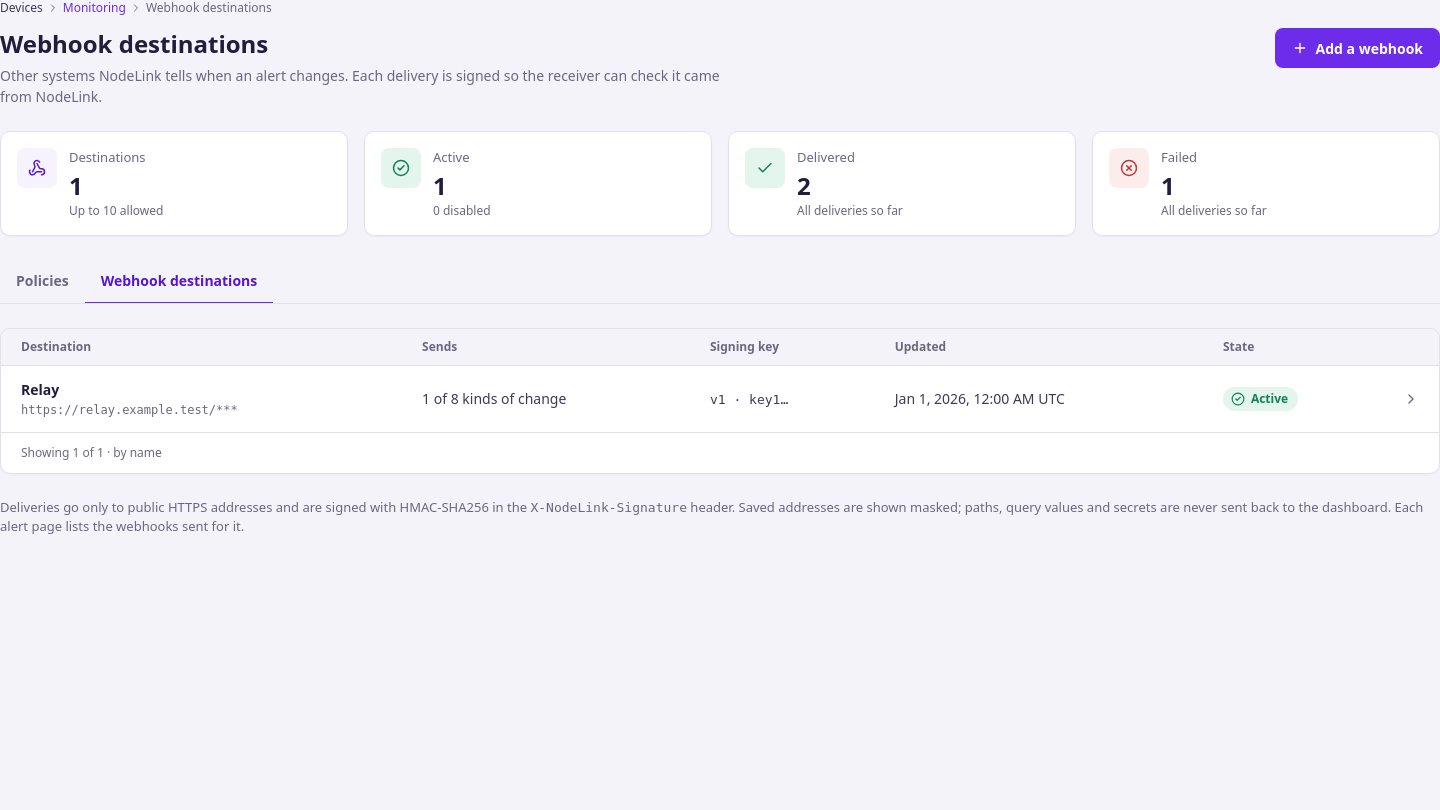
Test case: webhook rotation requires a reason and shows the replacement secret only until dismissed
Click the row named "Open Relay" at (720, 399), box x1=1 y1=365 x2=1439 y2=432
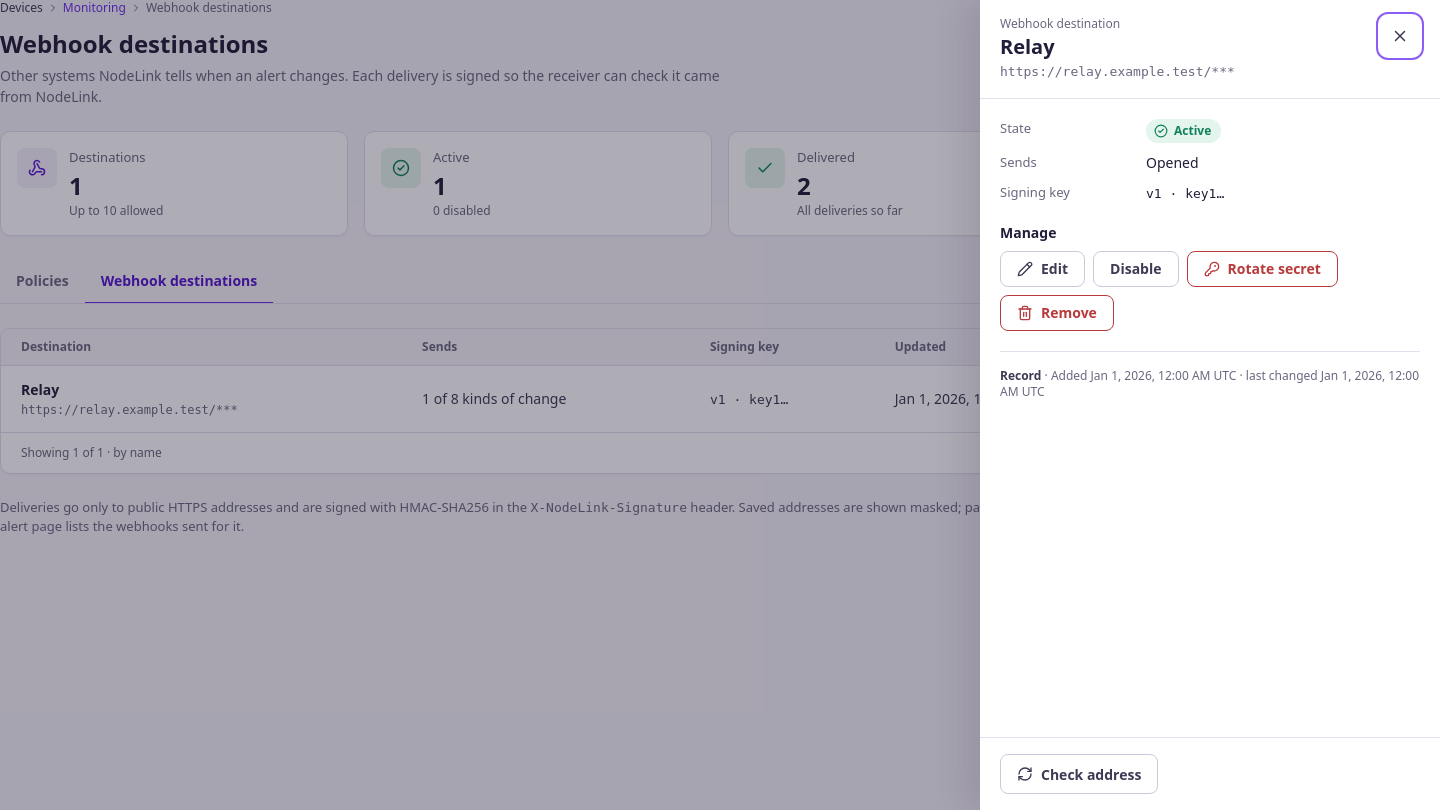
Click the button "Rotate secret" at (1262, 269), box x1=1186 y1=251 x2=1338 y2=287
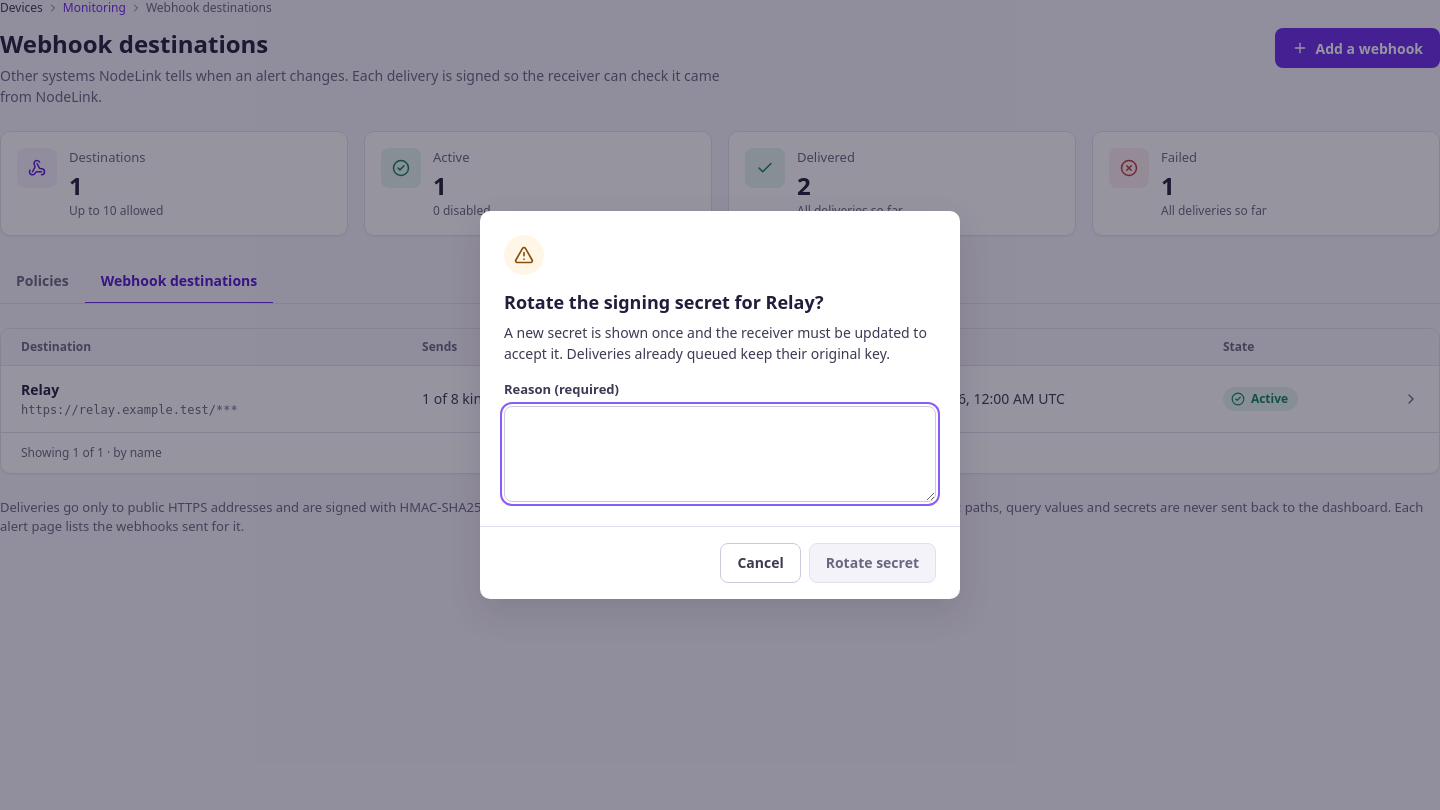
Type "Scheduled rotation" into the text box at (720, 454), box x1=504 y1=406 x2=936 y2=502
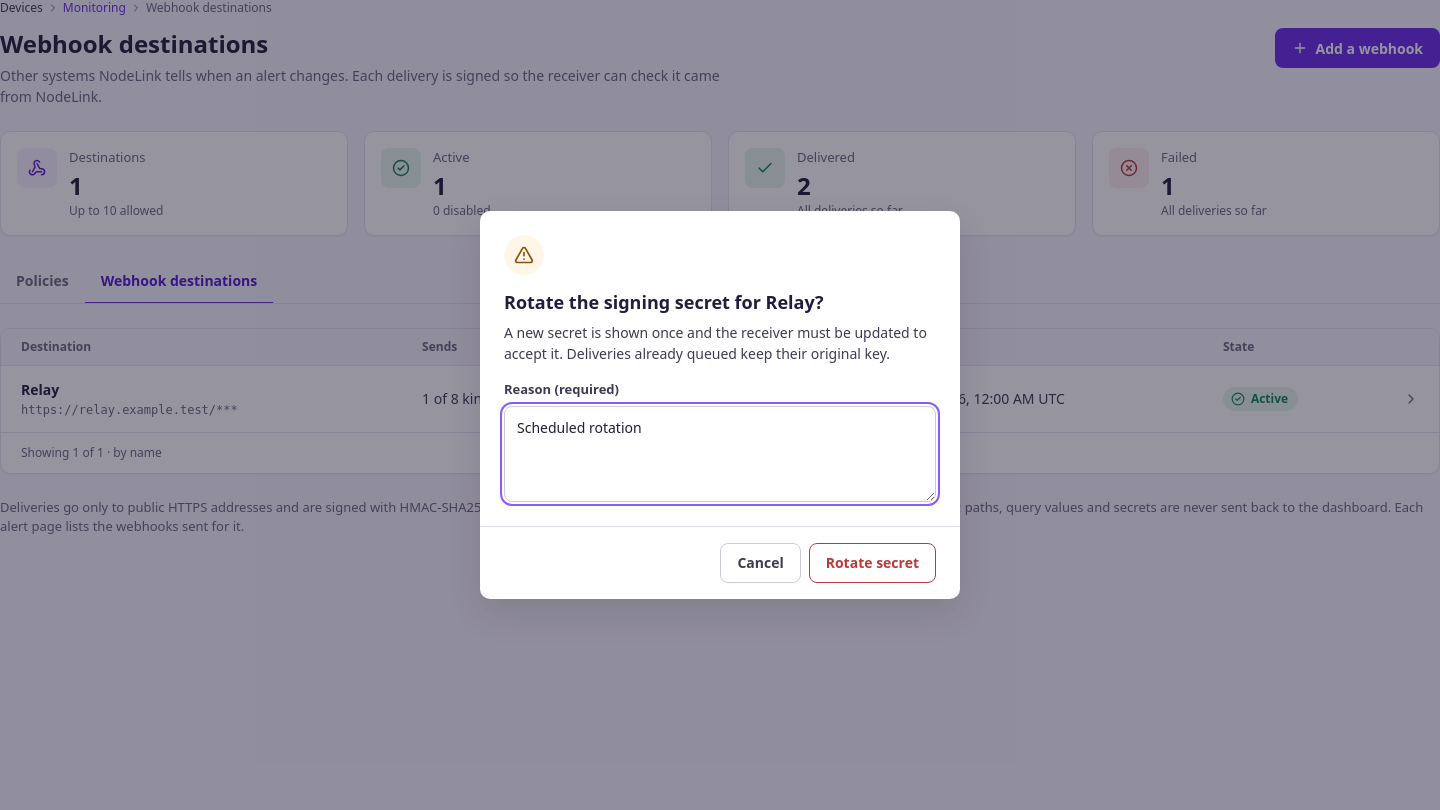
Click the button "Rotate secret" at (872, 563), box x1=809 y1=543 x2=936 y2=583
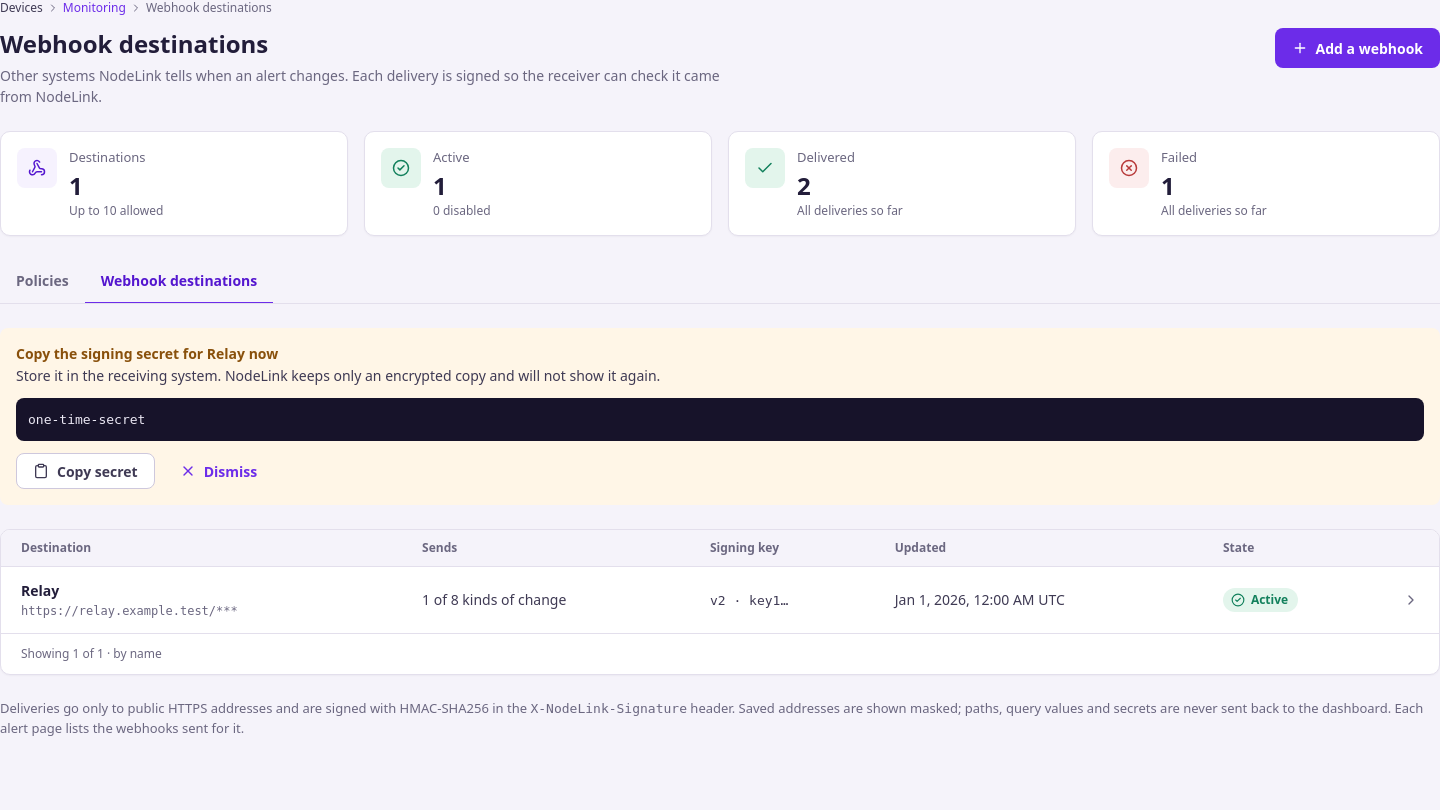
Check: the text "one-time-secret" is shown, box x1=16 y1=398 x2=1424 y2=441
Click the button "Dismiss" at (218, 471), box x1=163 y1=453 x2=274 y2=489
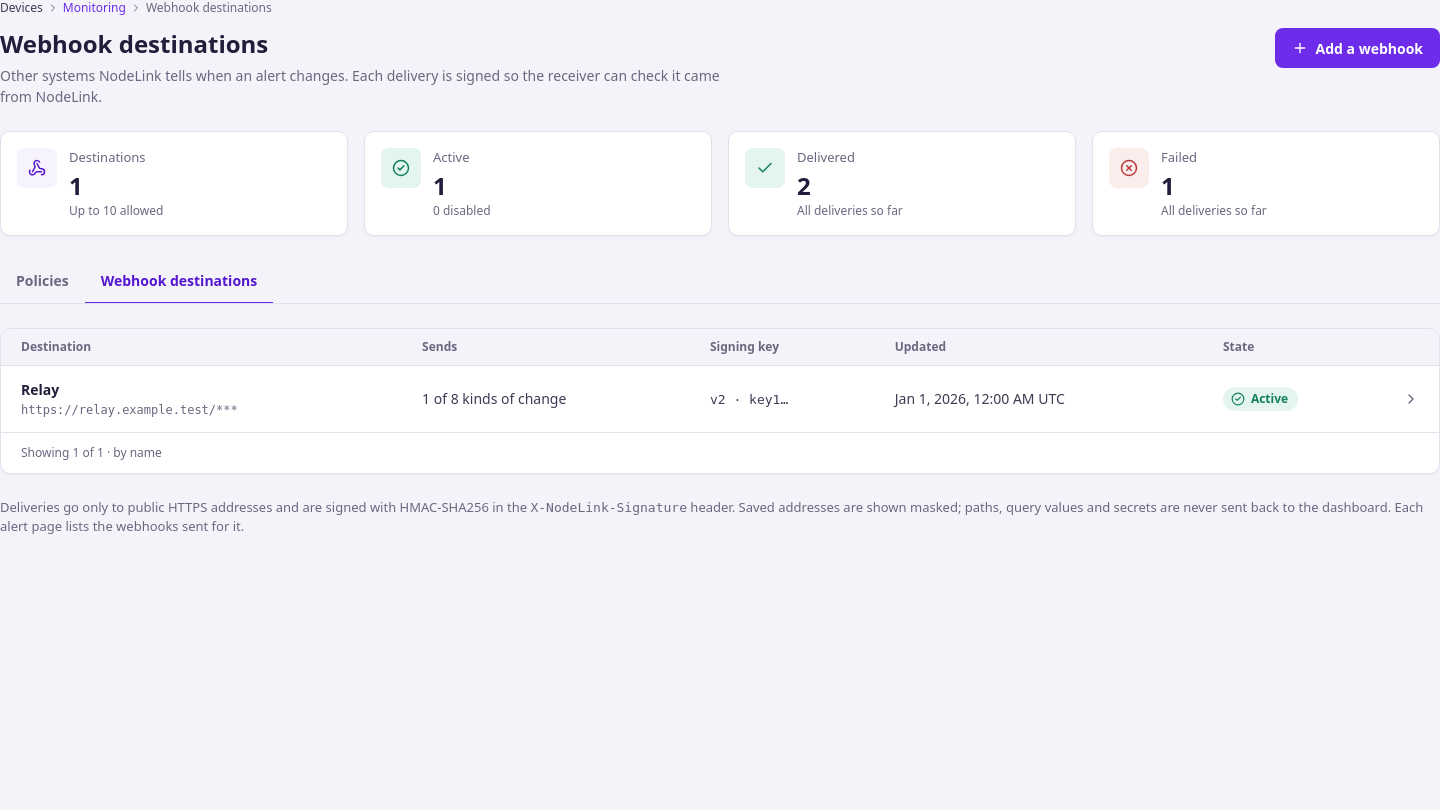
Check: the text "one-time-secret" is gone
